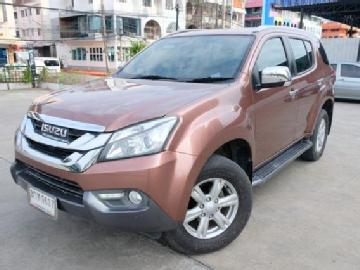pickup: (10, 24, 337, 255)
